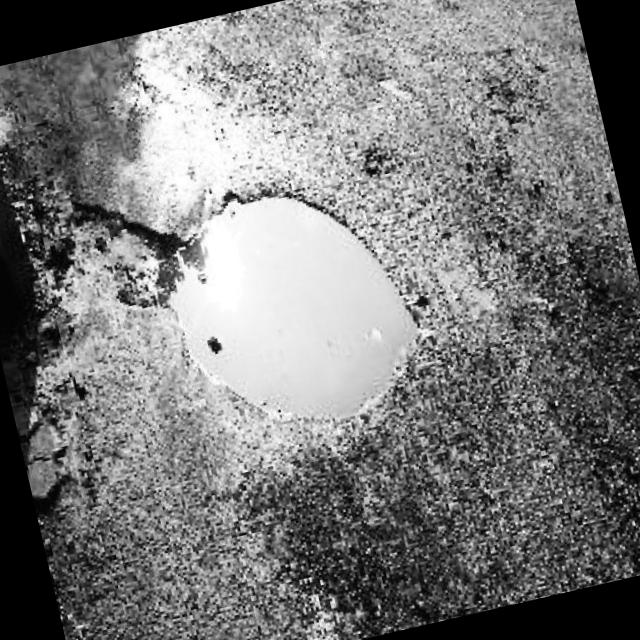Pothole: (93, 138, 460, 472)
